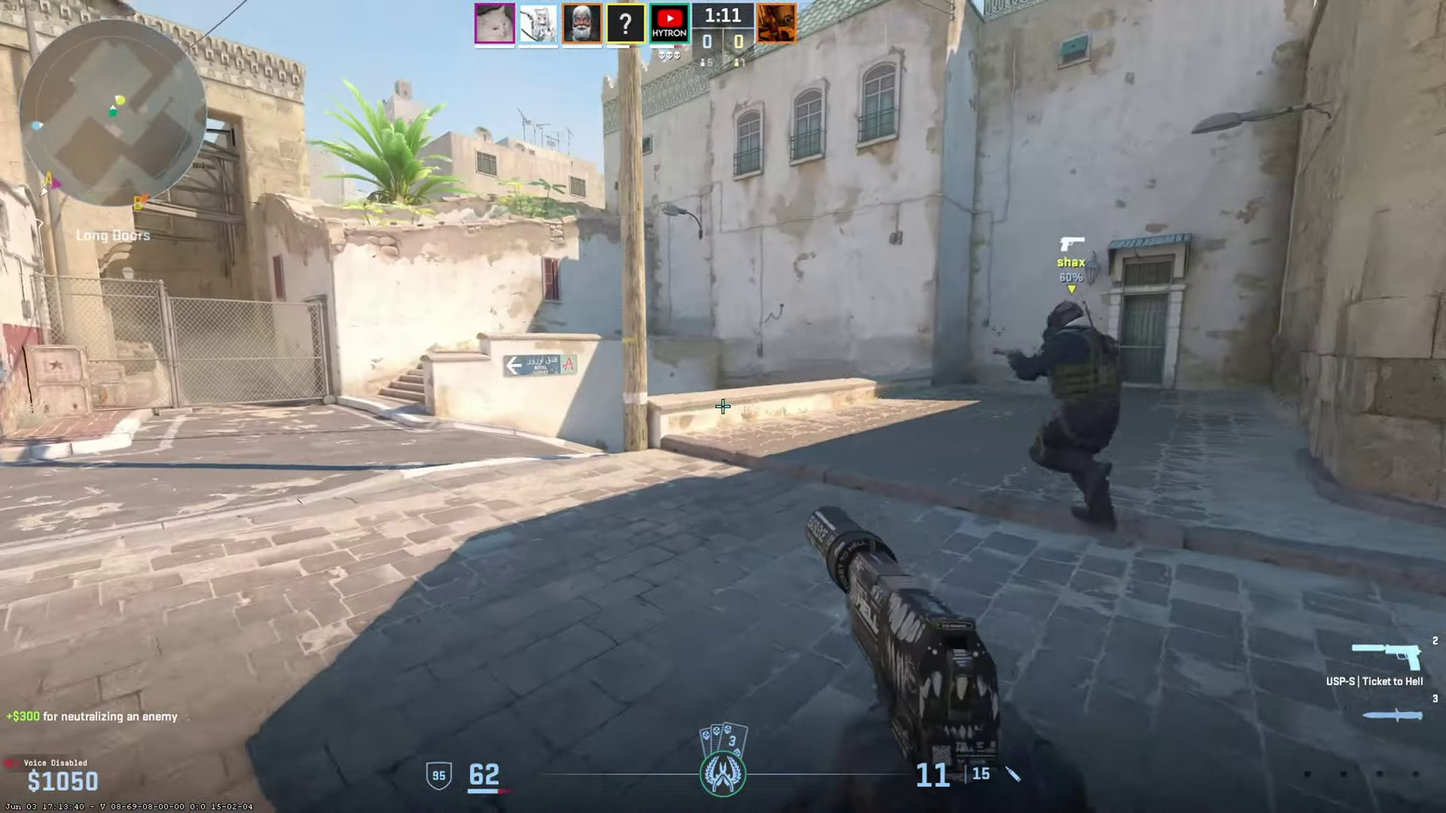CT: (1027, 302, 1123, 529)
